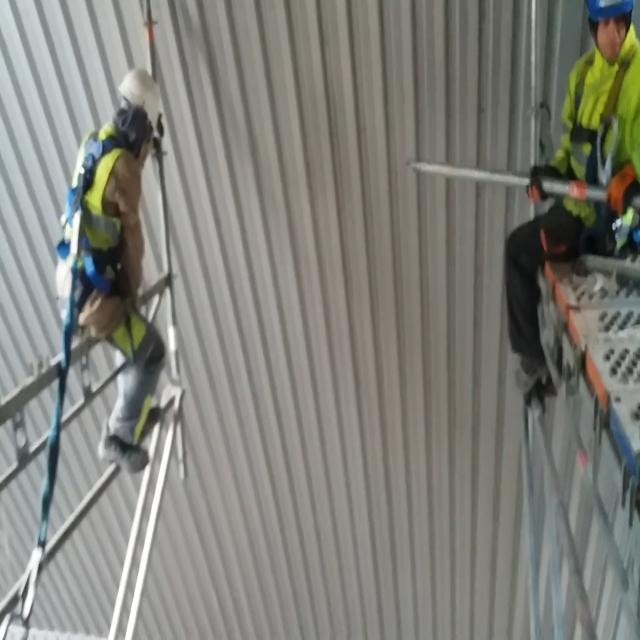Arnes_seguridad: (44, 116, 142, 340), (558, 41, 638, 236)
